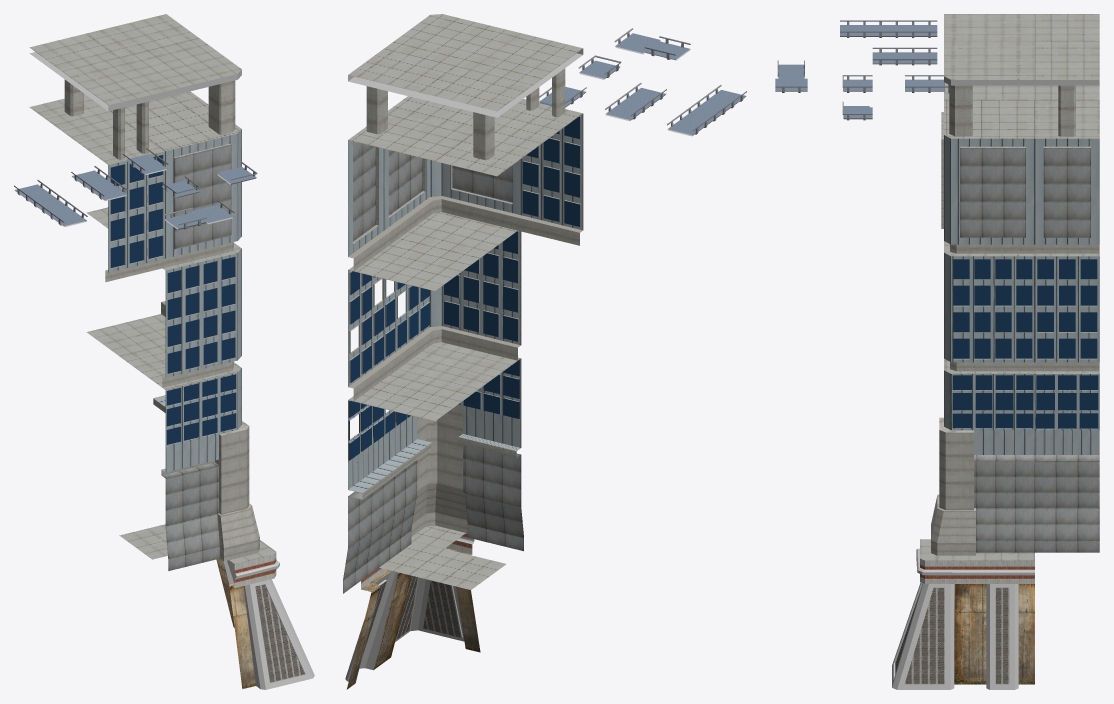
3 renders of one model, left to right at view 1: azimuth 30°, elevation 25°; view 2: azimuth 150°, elevation 25°; view 3: azimuth 270°, elevation 25°, orthographic. The views are drawn at different scales.
Visible parts, largest first — view 1: Building1_Base_Corner, Building1_2_Corner, Building1_1_Corner, Building1_1_Side.001, Base_Corner, Building1_Top_Corner, Building1_Top_Walk, Building1_Top_Center, Building1_Top_Side, Building1_Base_Side, Building1_2_Center, Walkway_Straight_3 (+8 smaller); view 2: Building1_Base_Corner, Building1_1_Corner, Building1_2_Corner, Building1_Base_Side, Building1_1_Side.001, Building1_2_Side, Building1_1_Side, Base_Corner, Building1_Top_Side, Base_Side, Building1_Top_Walk, Building1_Top_Corner (+8 smaller); view 3: Building1_Base_Corner, Building1_2_Corner, Building1_Base_Side, Building1_1_Corner, Building1_2_Side, Base_Corner, Base_Side, Building1_1_Side, Building1_Top_Corner, Building1_Top_Side, Building1_Top_Walk, Building1_Top_Center (+5 smaller).
Boxes of the visible parts, x1=… form: Building1_Base_Corner: x1=120, y1=345, x2=259, y2=570; Building1_2_Corner: x1=125, y1=98, x2=241, y2=268; Building1_1_Corner: x1=162, y1=243, x2=241, y2=387; Building1_1_Side.001: x1=63, y1=119, x2=165, y2=282; Base_Corner: x1=229, y1=540, x2=314, y2=689; Building1_Top_Corner: x1=120, y1=38, x2=241, y2=134; Building1_Top_Walk: x1=62, y1=57, x2=165, y2=162; Building1_Top_Center: x1=29, y1=33, x2=118, y2=116; Building1_Top_Side: x1=86, y1=14, x2=198, y2=57; Building1_Base_Side: x1=86, y1=314, x2=165, y2=412; Building1_2_Center: x1=29, y1=93, x2=112, y2=131; Walkway_Straight_3: x1=14, y1=180, x2=87, y2=226; Building1_Base_Corner: x1=379, y1=342, x2=523, y2=567; Building1_1_Corner: x1=384, y1=212, x2=521, y2=374; Building1_2_Corner: x1=384, y1=96, x2=521, y2=244; Building1_Base_Side: x1=343, y1=375, x2=470, y2=593; Building1_1_Side.001: x1=471, y1=99, x2=583, y2=245; Building1_2_Side: x1=348, y1=115, x2=470, y2=270; Building1_1_Side: x1=348, y1=245, x2=470, y2=401; Base_Corner: x1=382, y1=525, x2=480, y2=663; Building1_Top_Side: x1=348, y1=49, x2=470, y2=134; Base_Side: x1=345, y1=541, x2=443, y2=689; Building1_Top_Walk: x1=471, y1=33, x2=583, y2=116; Building1_Top_Corner: x1=384, y1=14, x2=520, y2=69; Building1_Base_Corner: x1=931, y1=358, x2=1034, y2=555; Building1_2_Corner: x1=941, y1=100, x2=1034, y2=253; Building1_Base_Side: x1=1035, y1=371, x2=1099, y2=552; Building1_1_Corner: x1=944, y1=241, x2=1034, y2=371; Building1_2_Side: x1=1035, y1=100, x2=1099, y2=253; Base_Corner: x1=892, y1=539, x2=969, y2=689; Base_Side: x1=970, y1=552, x2=1034, y2=689; Building1_1_Side: x1=1035, y1=253, x2=1099, y2=371; Building1_Top_Corner: x1=944, y1=41, x2=1034, y2=136; Building1_Top_Side: x1=1035, y1=41, x2=1099, y2=136; Building1_Top_Walk: x1=937, y1=14, x2=1034, y2=92; Building1_Top_Center: x1=1035, y1=14, x2=1099, y2=41.
Size of the model in its own units: 500 by 491 by 1000.
